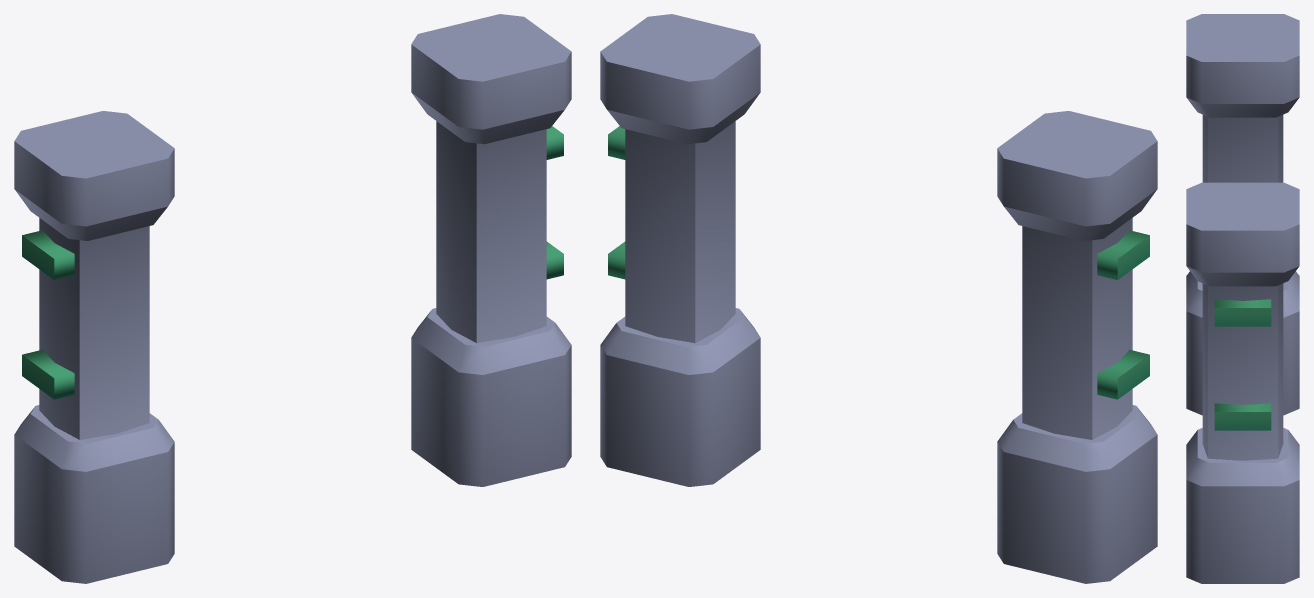
The model's file is K_iron-fence-border-gate.glb.
The picture shows the model from 3 angles, left to right: view 1: azimuth 30°, elevation 25°; view 2: azimuth 150°, elevation 25°; view 3: azimuth 270°, elevation 25°; orthographic projection. The views are drawn at different scales.
Visible parts, largest first — view 1: iron-fence-border-gate; view 2: iron-fence-border-gate; view 3: iron-fence-border-gate.
Part boxes in pixels (x1,y1,x2,y2): iron-fence-border-gate: (14,14,571,583); iron-fence-border-gate: (600,14,1157,583); iron-fence-border-gate: (1186,14,1299,583).
Bounding box in the file's own units: 1 × 0.76 × 0.2214.
